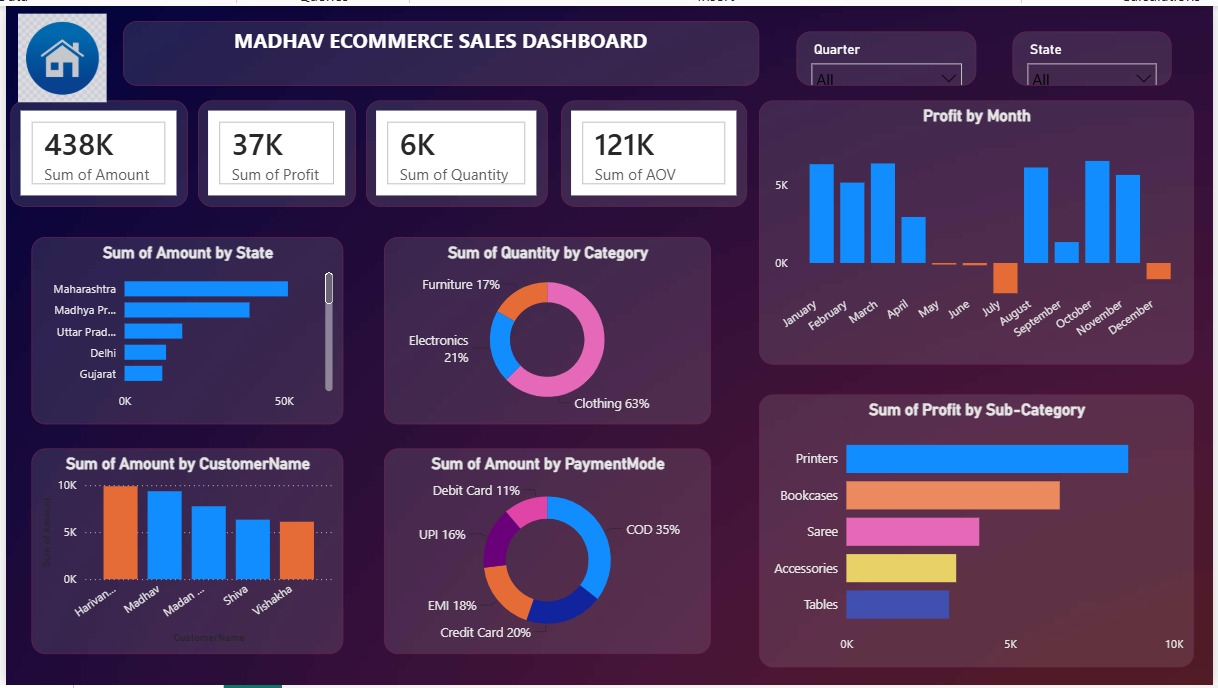

The page's visual inventory and layout, read from the dashboard file:
{"tool":"powerbi","page":{"name":"Dashboard","canvas":[1280,720],"ordinal":1},"visuals":[{"type":"textbox","box":[124.1,15.9,674.4,68.4],"z":0},{"type":"columnChart","title":"Profit by Month","fields":{"Y":["Sum(Details.Profit)"],"Category":["Orders.Order Date.Variation.Date Hierarchy.Month"]},"box":[798.5,100.2,461.3,279.9],"z":1000},{"type":"barChart","fields":{"Y":["Sum(Details.Profit)"],"Category":["Details.Sub-Category"]},"box":[798.5,412,461.3,289.5],"z":2000},{"type":"donutChart","fields":{"Y":["Sum(Details.Quantity)"],"Category":["Details.Category"]},"box":[400.8,245,346.8,198.8],"z":3000},{"type":"donutChart","fields":{"Y":["Sum(Details.Amount)"],"Category":["Details.PaymentMode"]},"box":[400.8,469.2,346.8,217.9],"z":4000},{"type":"cardVisual","fields":{"Data":["Sum(Details.Amount)"]},"box":[4.8,100.2,187.7,112.9],"z":5000},{"type":"cardVisual","fields":{"Data":["Sum(Details.Profit)"]},"box":[203.6,100.2,167,112.9],"z":7000},{"type":"cardVisual","fields":{"Data":["Sum(Details.Quantity)"]},"box":[381.7,100.2,192.5,112.9],"z":8000},{"type":"cardVisual","fields":{"Data":["Sum(Details.AOV)"]},"box":[588.5,100.2,197.2,112.9],"z":9000},{"type":"barChart","fields":{"Y":["Sum(Details.Amount)"],"Category":["Orders.State"]},"box":[27,245,330.8,198.8],"z":10000},{"type":"columnChart","fields":{"Category":["Orders.CustomerName"],"Y":["Sum(Details.Amount)"]},"box":[27,469.2,330.8,217.9],"z":11000},{"type":"slicer","fields":{"Values":["Orders.Order Date.Variation.Date Hierarchy.Quarter"]},"box":[838.3,27,190.9,57.3],"z":12000},{"type":"slicer","fields":{"Values":["Orders.State"]},"box":[1067.3,27,168.6,57.3],"z":13000},{"type":"image","box":[12.7,4.8,93.8,100.2],"z":14000}]}

Visuals, with their boxes on the page's 1280x720 design canvas (x1, y1, x2, y2). These are canvas units, not pixel positions in the 1218x688 screenshot, which may show the page scaled, cropped or inside an application window:
textbox: BBox(124, 16, 798, 84)
"Profit by Month" columnChart: BBox(798, 100, 1260, 380)
barChart - Sum(Details.Profit) x Details.Sub-Category: BBox(798, 412, 1260, 702)
donutChart - Sum(Details.Quantity) x Details.Category: BBox(401, 245, 748, 444)
donutChart - Sum(Details.Amount) x Details.PaymentMode: BBox(401, 469, 748, 687)
cardVisual - Sum(Details.Amount): BBox(5, 100, 192, 213)
cardVisual - Sum(Details.Profit): BBox(204, 100, 371, 213)
cardVisual - Sum(Details.Quantity): BBox(382, 100, 574, 213)
cardVisual - Sum(Details.AOV): BBox(588, 100, 786, 213)
barChart - Sum(Details.Amount) x Orders.State: BBox(27, 245, 358, 444)
columnChart - Orders.CustomerName x Sum(Details.Amount): BBox(27, 469, 358, 687)
slicer - Orders.Order Date.Variation.Date Hierarchy.Quarter: BBox(838, 27, 1029, 84)
slicer - Orders.State: BBox(1067, 27, 1236, 84)
image: BBox(13, 5, 106, 105)
